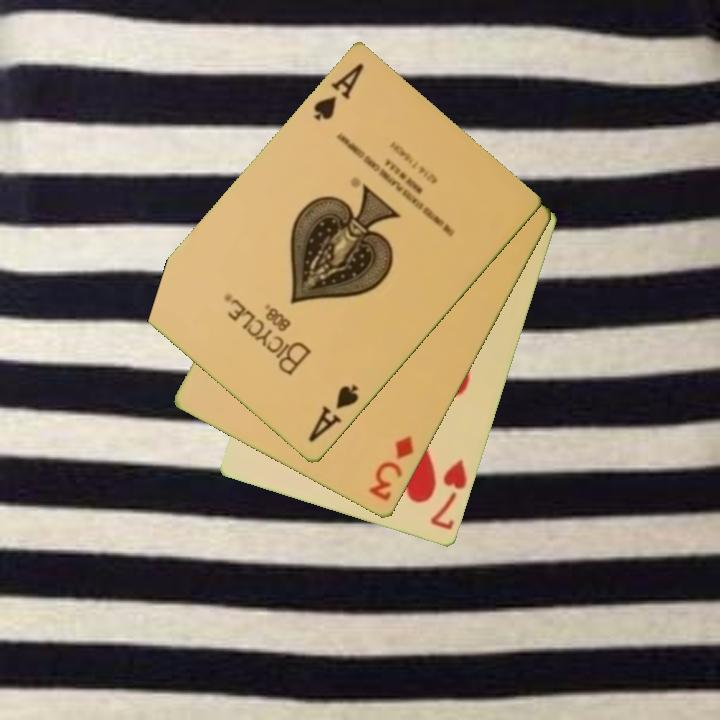3d: (365, 432, 417, 505)
7h: (427, 456, 471, 534)
As: (304, 381, 362, 446), (310, 60, 367, 125)
